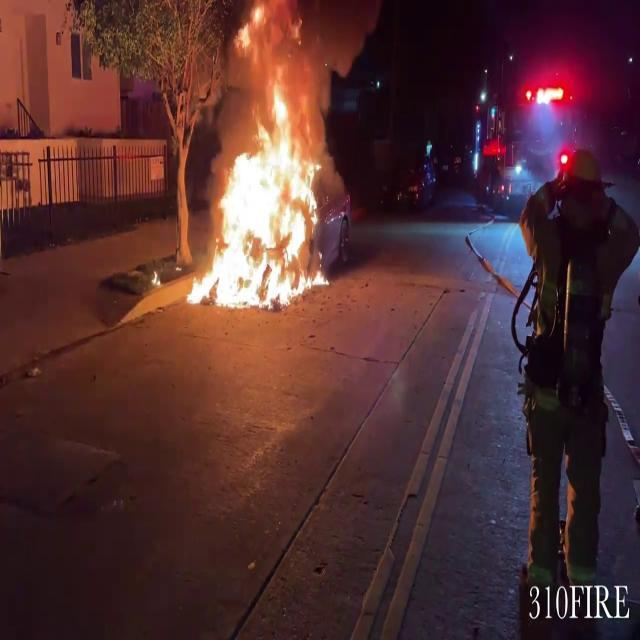Fire: (189, 8, 329, 310)
